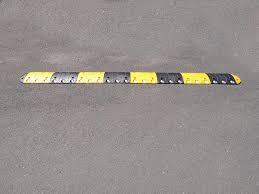Bump: (21, 70, 242, 88)
